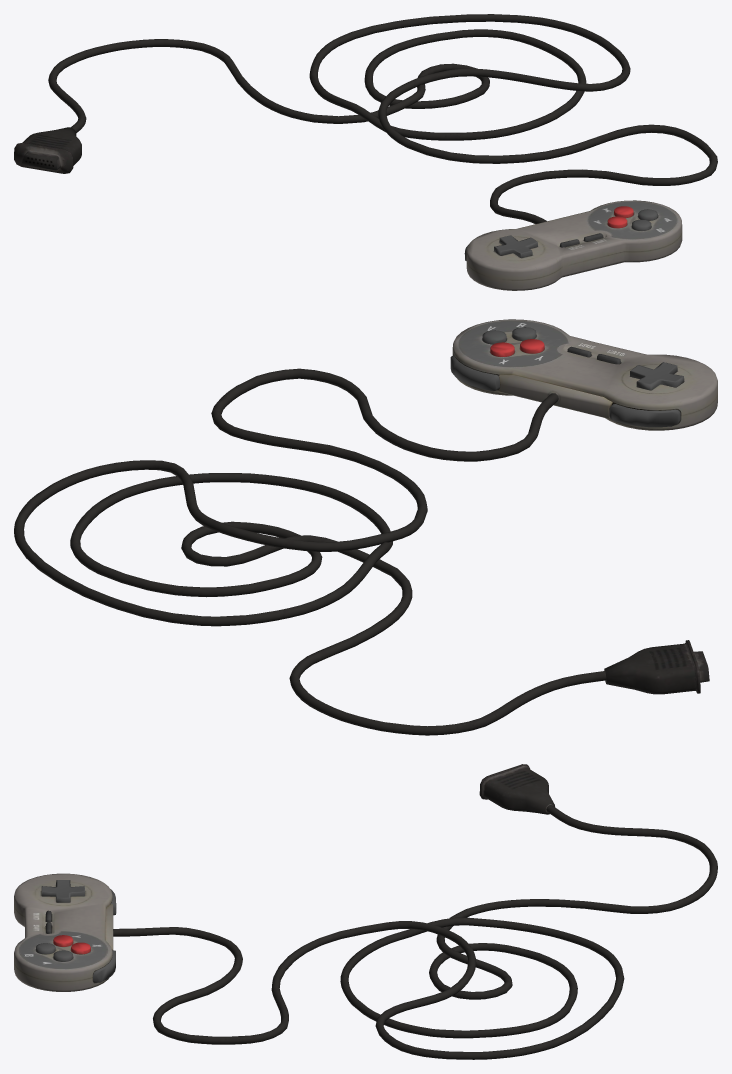
Rendered from gamepad.glb.
3 views of the same model, one above another, from view 1: azimuth 30°, elevation 25°; view 2: azimuth 150°, elevation 25°; view 3: azimuth 270°, elevation 25° (orthographic). The views are drawn at different scales.
Parts seen in each view (by area): view 1: gamepad; view 2: gamepad; view 3: gamepad.
Boxes of the visible parts, box(x1,y1,x2,y2) form: gamepad: box(14, 14, 717, 290); gamepad: box(14, 319, 717, 735); gamepad: box(14, 764, 717, 1059).
Bounding box in the file's own units: 0.4041 × 0.0188 × 0.435.
Materials: 1 (1 with a texture image).
